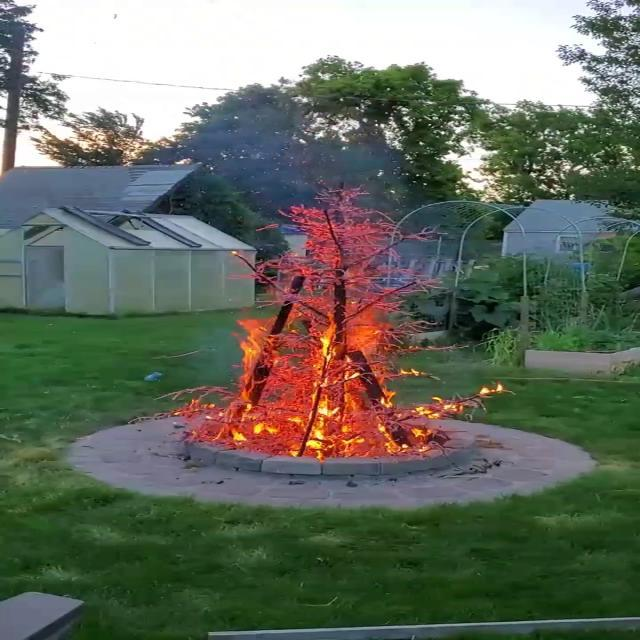Fire: (199, 115, 464, 462)
